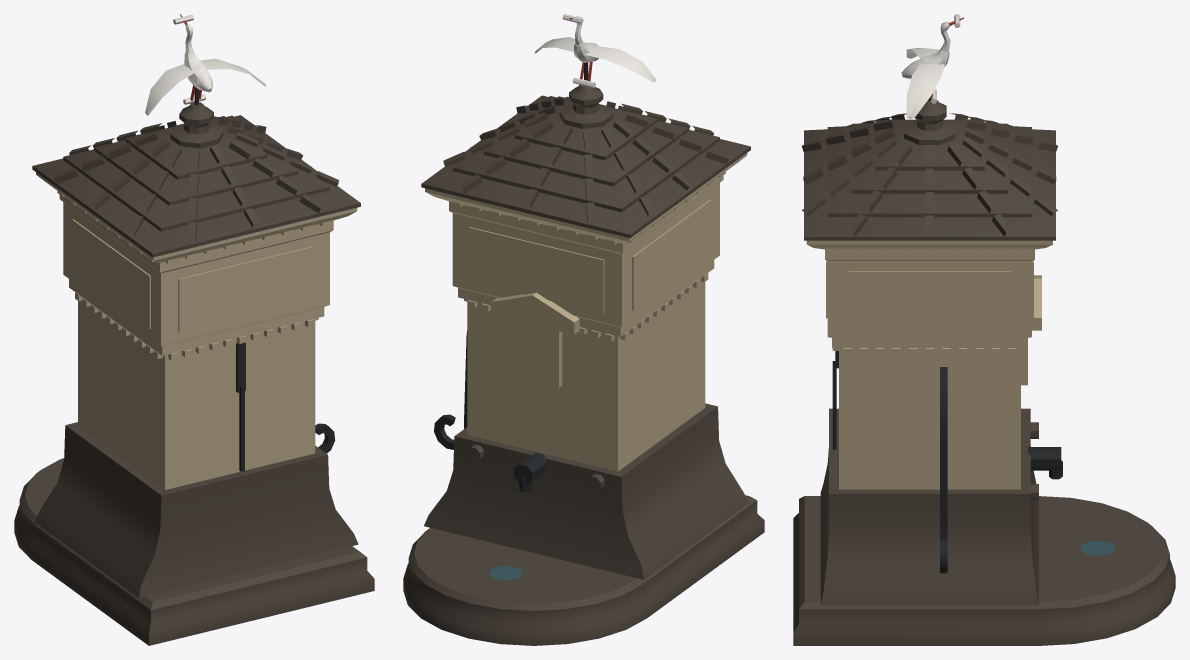
File: mon_queckbrunnen.glb
3 views of the same model, side by side, from view 1: azimuth 30°, elevation 25°; view 2: azimuth 150°, elevation 25°; view 3: azimuth 270°, elevation 25° (orthographic). The views are drawn at different scales.
Parts seen in each view (by area): view 1: mon_queckbrunnen; view 2: mon_queckbrunnen; view 3: mon_queckbrunnen.
Part boxes in pixels (x1=…): mon_queckbrunnen: x1=14, y1=14, x2=374, y2=645; mon_queckbrunnen: x1=403, y1=14, x2=764, y2=645; mon_queckbrunnen: x1=793, y1=14, x2=1175, y2=645.
Bounding box in the file's own units: 2.21 × 4.5 × 2.73.
